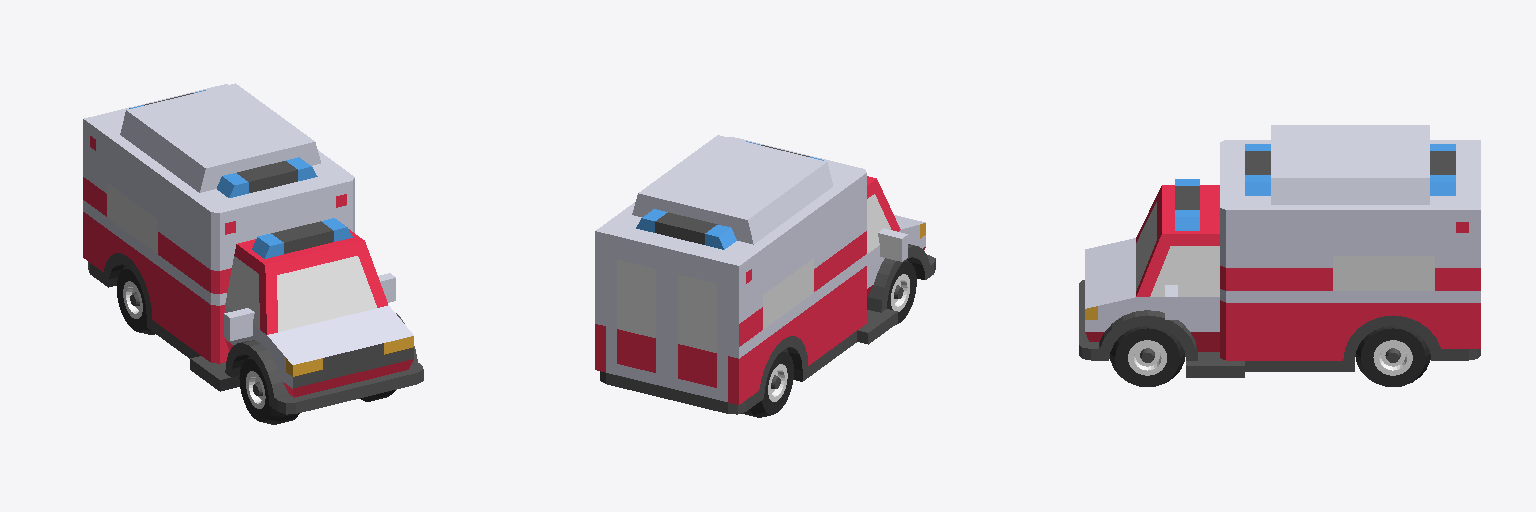
File: ambulance.obj
3 views of the same model, side by side, from view 1: azimuth 30°, elevation 25°; view 2: azimuth 150°, elevation 25°; view 3: azimuth 270°, elevation 25° (orthographic).
Visible parts, largest first — view 1: body, wheel_frontRight, wheel_backRight; view 2: body, doorRight, doorLeft, wheel_backRight, wheel_frontRight; view 3: body, wheel_frontLeft, wheel_backLeft.
Boxes of the visible parts, <box> form: body: <box>83,83,423,414</box>; wheel_frontRight: <box>239,356,299,424</box>; wheel_backRight: <box>117,267,154,334</box>; body: <box>595,135,935,414</box>; doorRight: <box>667,260,727,401</box>; doorLeft: <box>606,245,666,386</box>; wheel_backRight: <box>741,350,793,417</box>; wheel_frontRight: <box>887,260,916,324</box>; body: <box>1079,125,1480,377</box>; wheel_frontLeft: <box>1110,326,1184,386</box>; wheel_backLeft: <box>1355,326,1430,386</box>.
Size of the model in its own units: 1.5 by 1.8 by 3.15.